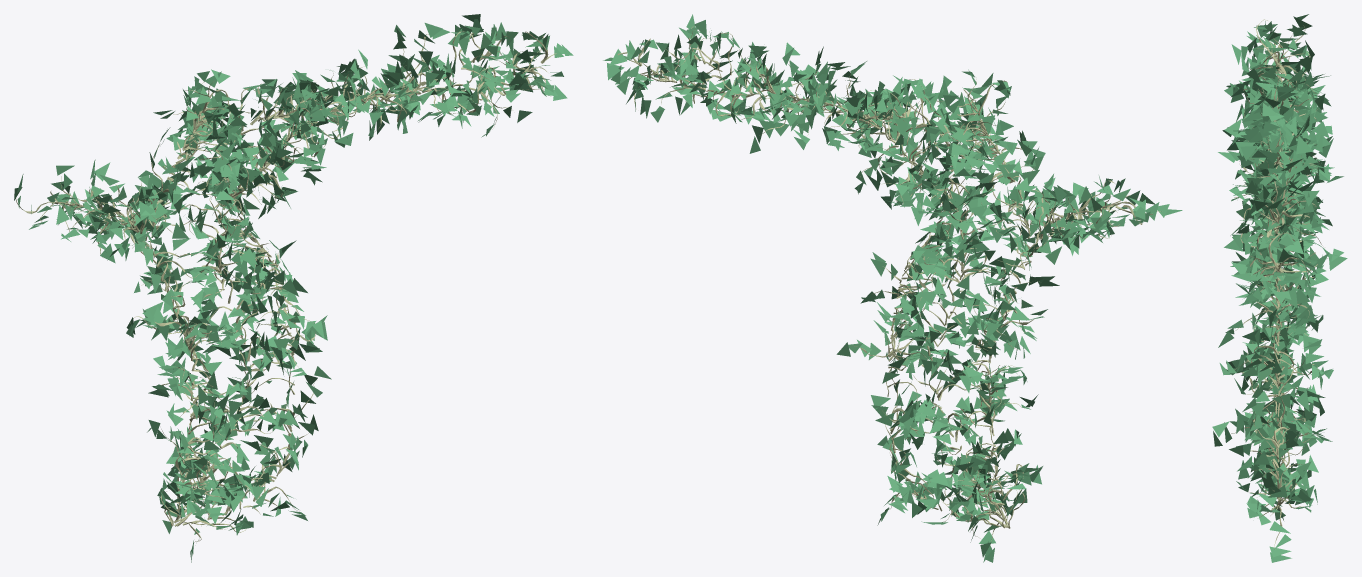
Rendered from IvySmall.fbx.
The picture shows the model from 3 angles, left to right: view 1: azimuth 30°, elevation 25°; view 2: azimuth 150°, elevation 25°; view 3: azimuth 270°, elevation 25°; orthographic projection. The views are drawn at different scales.
Parts seen in each view (by area): view 1: ivy16Leaf, ivy15Leaf, ivy14Leaf, ivy16Main, ivy13Leaf, ivy15Main, ivy14Main, ivy13Main; view 2: ivy16Leaf, ivy15Leaf, ivy14Leaf, ivy13Leaf, ivy16Main, ivy15Main, ivy14Main, ivy13Main; view 3: ivy15Leaf, ivy16Leaf, ivy14Leaf, ivy15Main, ivy16Main, ivy13Leaf, ivy14Main.
Boxes of the visible parts, box(x1,y1,x2,y2) form: ivy16Leaf: box(157, 31, 573, 533); ivy15Leaf: box(161, 14, 518, 562); ivy14Leaf: box(118, 69, 248, 513); ivy16Main: box(160, 31, 556, 525); ivy13Leaf: box(14, 159, 165, 265); ivy15Main: box(164, 26, 510, 542); ivy14Main: box(130, 81, 234, 521); ivy13Main: box(15, 176, 152, 257); ivy16Leaf: box(603, 39, 1042, 557); ivy15Leaf: box(663, 14, 1012, 562); ivy14Leaf: box(927, 69, 1065, 508); ivy13Leaf: box(1009, 174, 1182, 275); ivy16Main: box(618, 38, 1031, 538); ivy15Main: box(674, 26, 1013, 541); ivy14Main: box(944, 79, 1039, 524); ivy13Main: box(1020, 180, 1160, 254); ivy15Leaf: box(1218, 68, 1332, 562); ivy16Leaf: box(1212, 103, 1347, 507); ivy14Leaf: box(1224, 21, 1333, 476); ivy15Main: box(1234, 79, 1319, 548); ivy16Main: box(1231, 120, 1329, 490); ivy13Leaf: box(1236, 14, 1333, 157); ivy14Main: box(1234, 19, 1325, 466).
Size of the model in its own units: 13.34 by 11.1 by 2.7.
